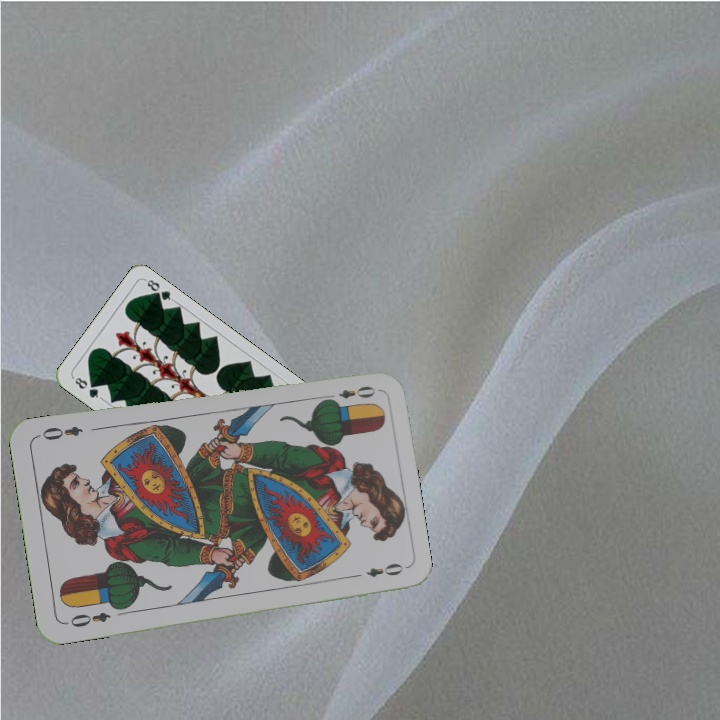EO: (321, 381, 378, 406), (61, 608, 113, 630)
G8: (69, 373, 104, 402)
